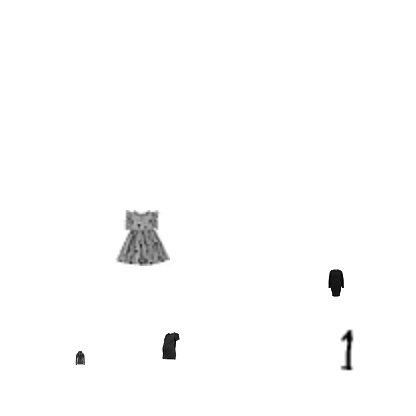1: (319, 320, 375, 376)
Dress: (114, 210, 170, 266), (322, 269, 350, 297)
Pullover: (73, 351, 87, 365)
T-shirt/top: (157, 332, 185, 360)
